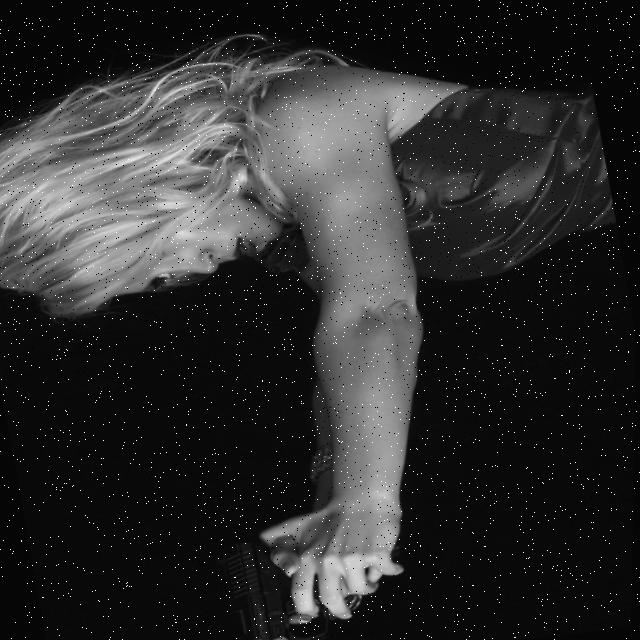pistol: (215, 521, 344, 640)
